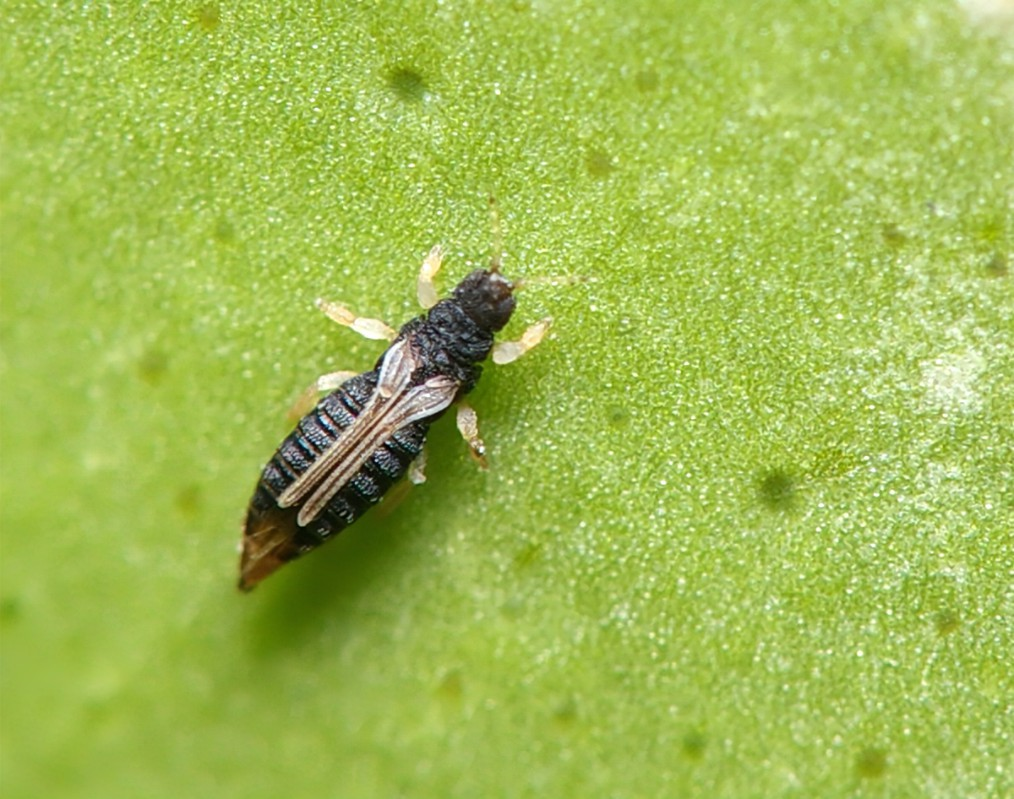Thripidae: (230, 244, 554, 598)
